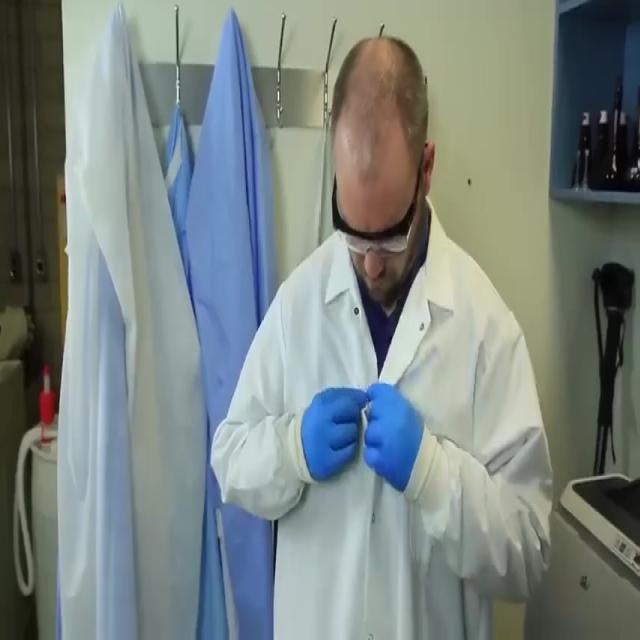googles: (329, 207, 414, 258)
labcoat: (210, 190, 553, 640), (59, 0, 205, 640)
